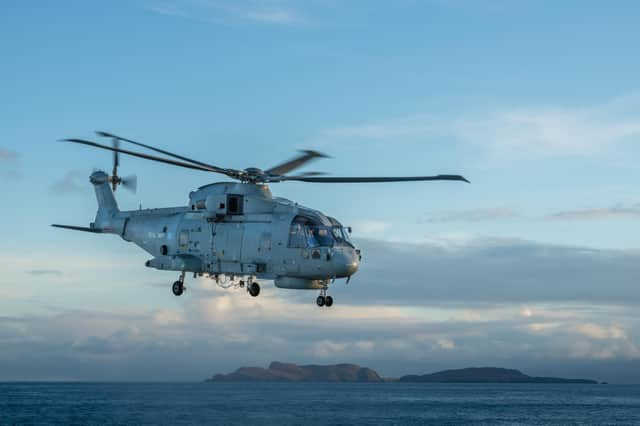Merlin: (44, 127, 476, 308)
